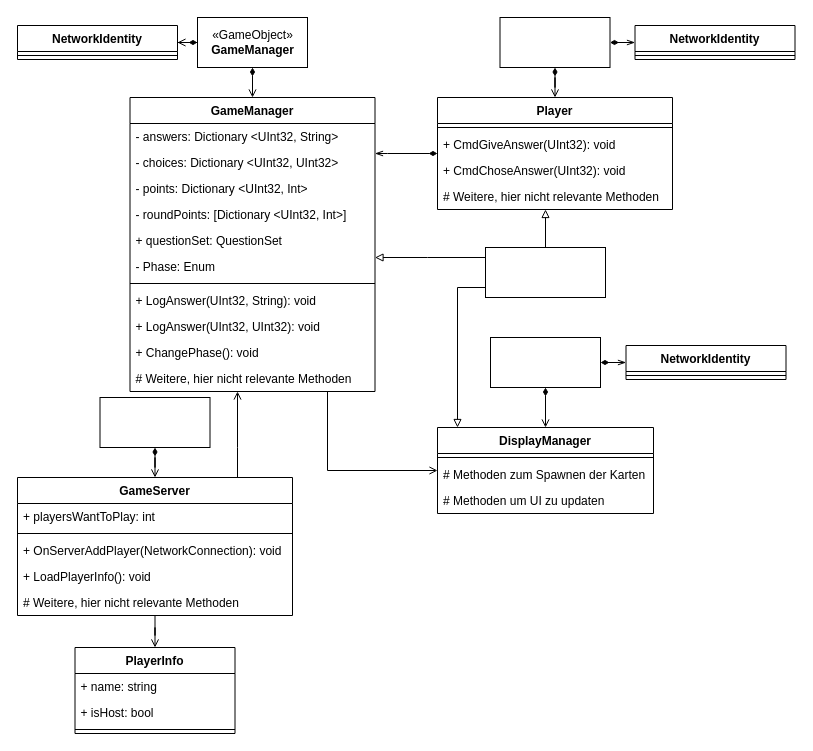
The diagram is 813 pixels wide and 751 high, and some of its shapes have lost their labels. Each missing label, with the centre of its shape:
"«GameObject» DisplayManager" belongs at (545,362).
"«GameObject» NetworkManager" belongs at (154,422).
"«GameObject» Player" belongs at (554,42).
"«interface» NetworkBehaviour" belongs at (545,272).
